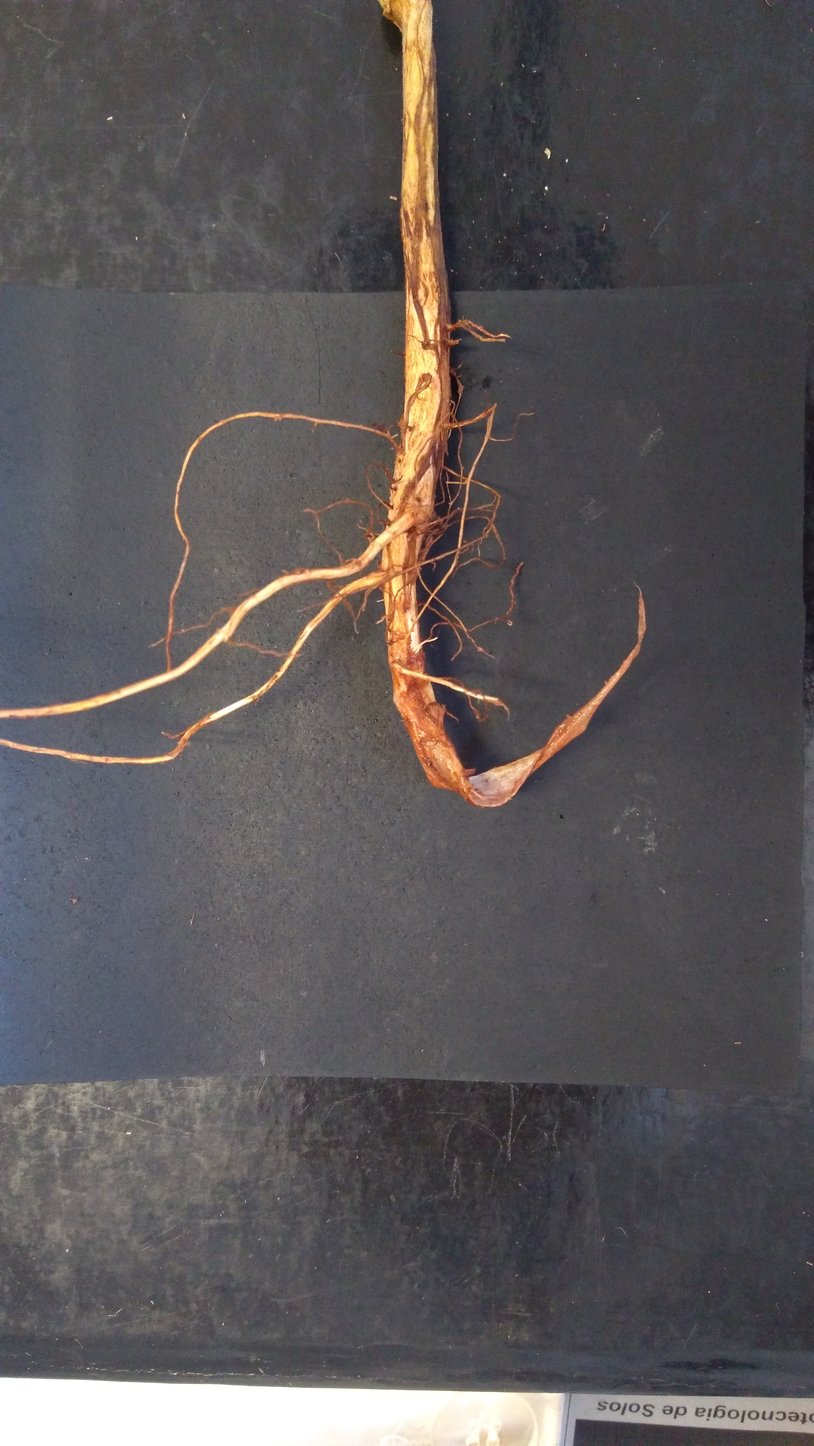nodule: (424, 700, 447, 726), (446, 338, 460, 346), (387, 508, 395, 522), (445, 322, 456, 332), (390, 482, 397, 490)
